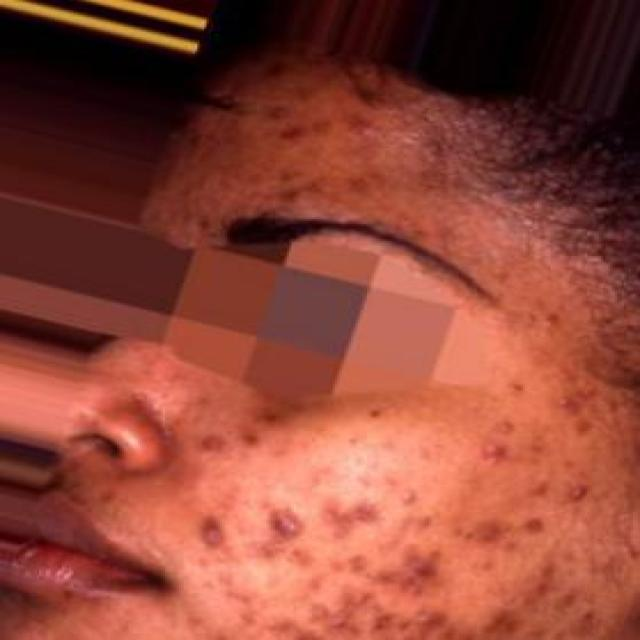acne: (170, 491, 478, 631), (516, 376, 638, 496)
